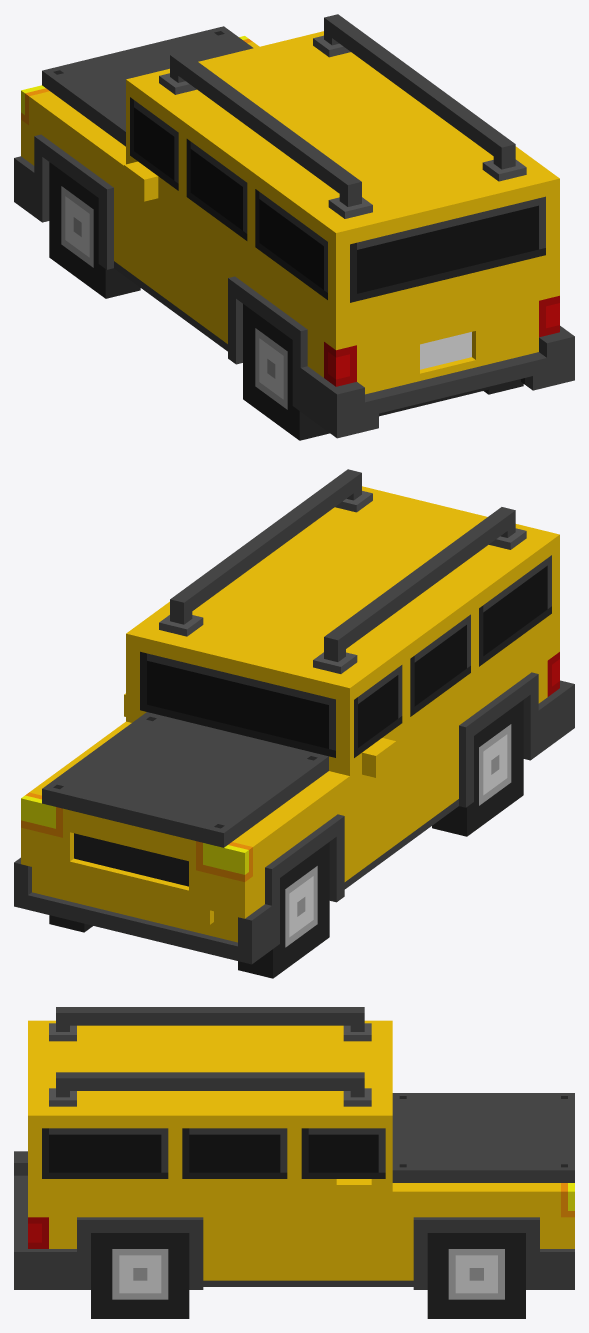
3 renders of one model, top to bottom at view 1: azimuth 30°, elevation 25°; view 2: azimuth 150°, elevation 25°; view 3: azimuth 270°, elevation 25°, orthographic. The views are drawn at different scales.
Parts seen in each view (by area): view 1: alll cars3-164; view 2: alll cars3-164; view 3: alll cars3-164.
Boxes of the visible parts, box(x1,y1,x2,y2) form: alll cars3-164: box(14, 14, 574, 440); alll cars3-164: box(14, 469, 574, 978); alll cars3-164: box(14, 1007, 574, 1318).
Size of the model in its own units: 2.96 by 2.96 by 6.58.
Materials: 1 (1 with a texture image).
